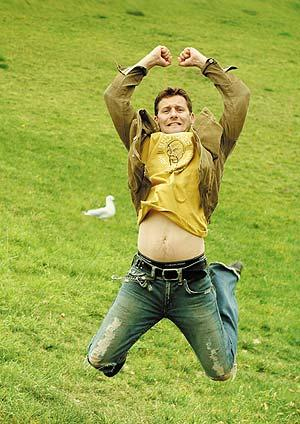person: (87, 45, 248, 383)
